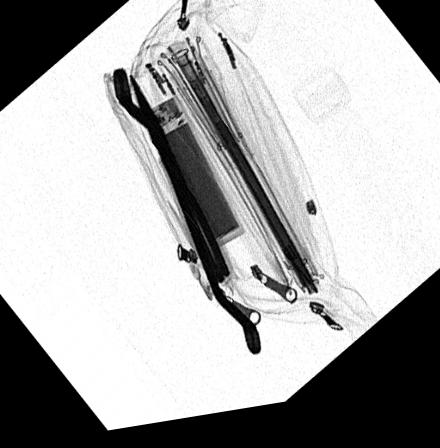Pliers: (126, 76, 229, 290)
Powerbank: (143, 101, 243, 258)
Wrench: (110, 70, 262, 361)
